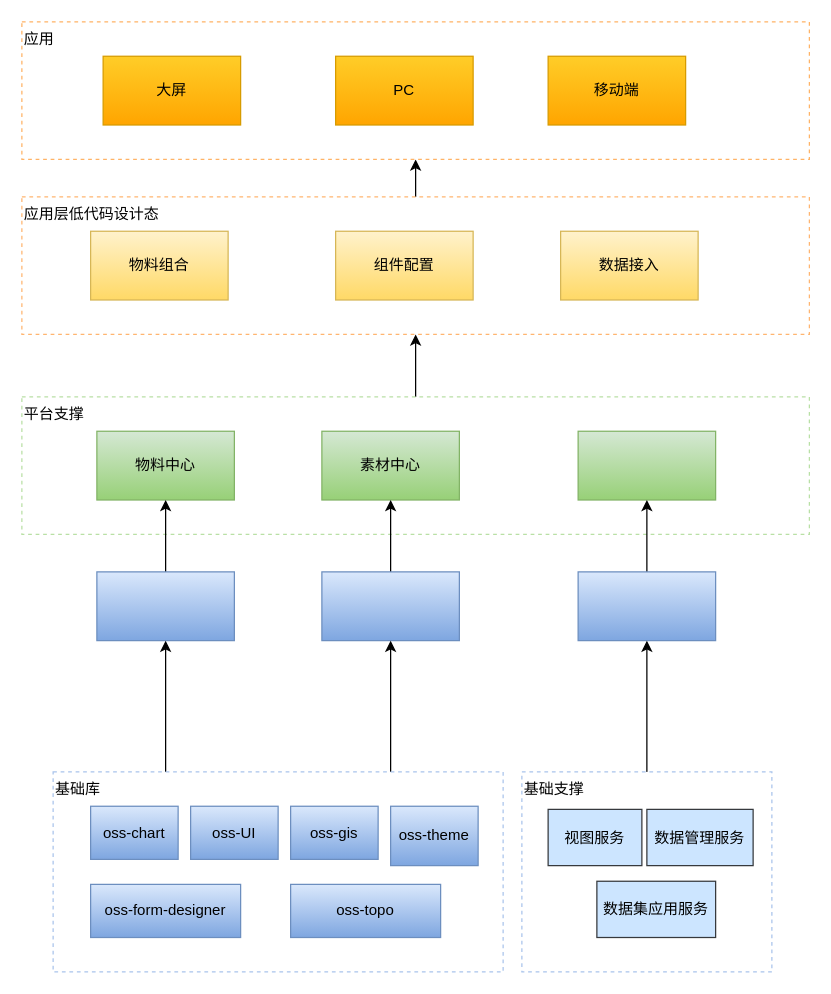
This 831x994 diagram has some shape labels left out. The centre of each missing label's shape, as x and y in pixels:
"SQL/OPEN API" belongs at point (646, 606).
"图片、视频资源" belongs at point (390, 606).
"数据中心" belongs at point (646, 465).
"组件级资源" belongs at point (165, 606).
